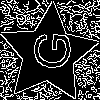G: (23, 28, 72, 72)
